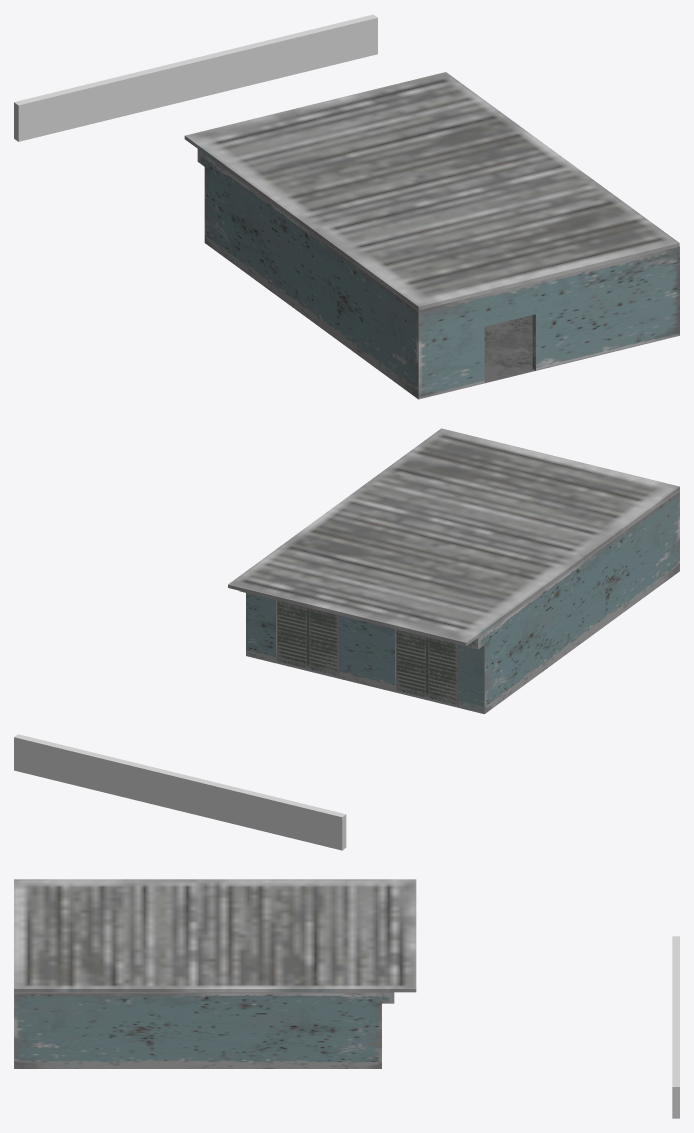
File: Garage.fbx
3 views of the same model, one above another, from view 1: azimuth 30°, elevation 25°; view 2: azimuth 150°, elevation 25°; view 3: azimuth 270°, elevation 25° (orthographic). The views are drawn at different scales.
Parts seen in each view (by area): view 1: garage Celing, Plane.001, Plane; view 2: garage Celing, Plane.001, Plane, low.002; view 3: garage Celing, Plane.001, Plane.
Part boxes in pixels (box(x1,y1,x2,y2)): garage Celing: box(184, 72, 679, 310); Plane.001: box(197, 149, 679, 399); Plane: box(14, 14, 377, 141); garage Celing: box(228, 428, 679, 645); Plane.001: box(239, 490, 679, 713); Plane: box(14, 734, 346, 850); low.002: box(276, 600, 339, 677); garage Celing: box(14, 879, 416, 992); Plane.001: box(14, 992, 394, 1068); Plane: box(672, 936, 679, 1118).
Bounding box in the file's own units: 2062 × 609 × 3847.
10 materials, 10 textured.
